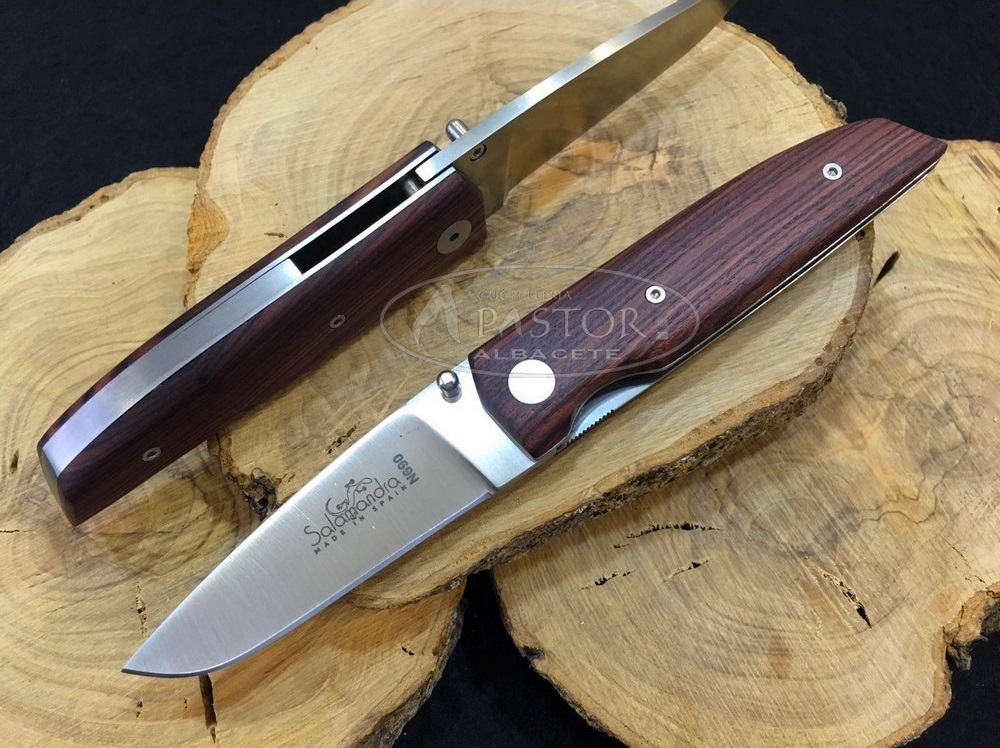knife: (103, 340, 555, 684)
